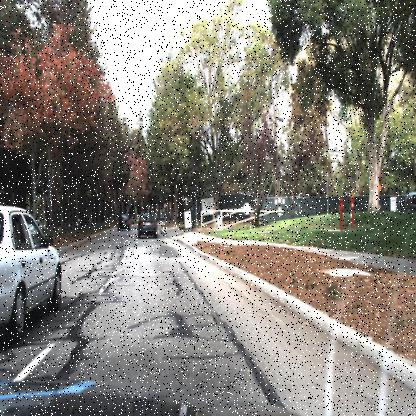car: (0, 201, 63, 347), (136, 211, 158, 239), (116, 211, 130, 233)
